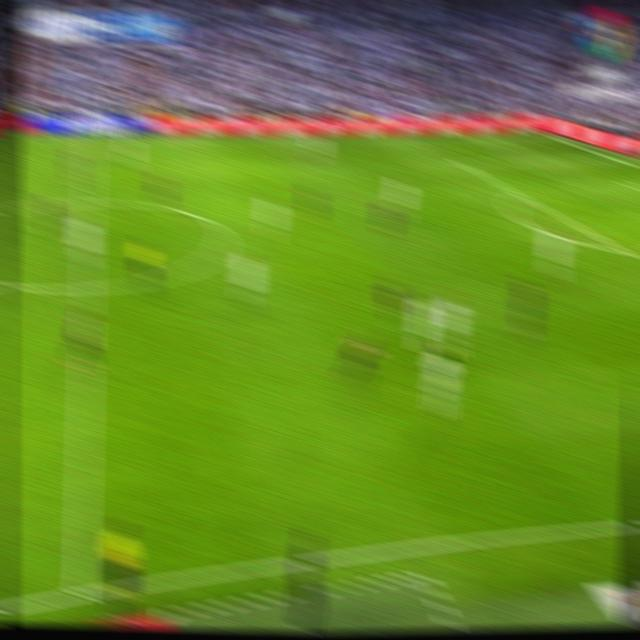halfcircle_bottom: (76, 274, 98, 302)
halfcircle_top: (79, 191, 98, 211)
midline_bottom_intersection: (68, 582, 92, 606)
midline_top_intersection: (80, 131, 98, 146)
top_arc_area_intersection: (512, 186, 531, 204)
